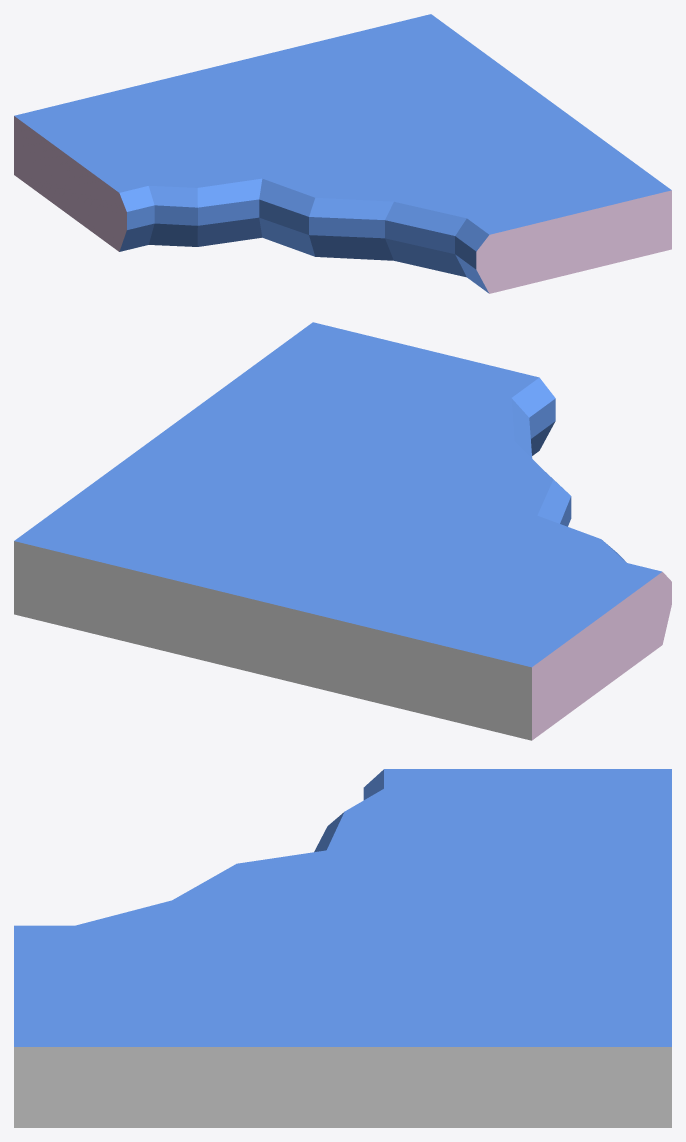
Rendered from Iceberg_Curve_Inner_3x3_1.glb.
The picture shows the model from 3 angles, top to bottom: view 1: azimuth 30°, elevation 25°; view 2: azimuth 150°, elevation 25°; view 3: azimuth 270°, elevation 25°; orthographic projection. The views are drawn at different scales.
Parts seen in each view (by area): view 1: Iceberg_Curve_Inner_3x3_1; view 2: Iceberg_Curve_Inner_3x3_1; view 3: Iceberg_Curve_Inner_3x3_1.
Boxes of the visible parts, bbox=[...] form: Iceberg_Curve_Inner_3x3_1: bbox=[14, 14, 671, 293]; Iceberg_Curve_Inner_3x3_1: bbox=[14, 322, 671, 740]; Iceberg_Curve_Inner_3x3_1: bbox=[14, 769, 671, 1127].
Size of the model in its own units: 300 by 40.63 by 300.
